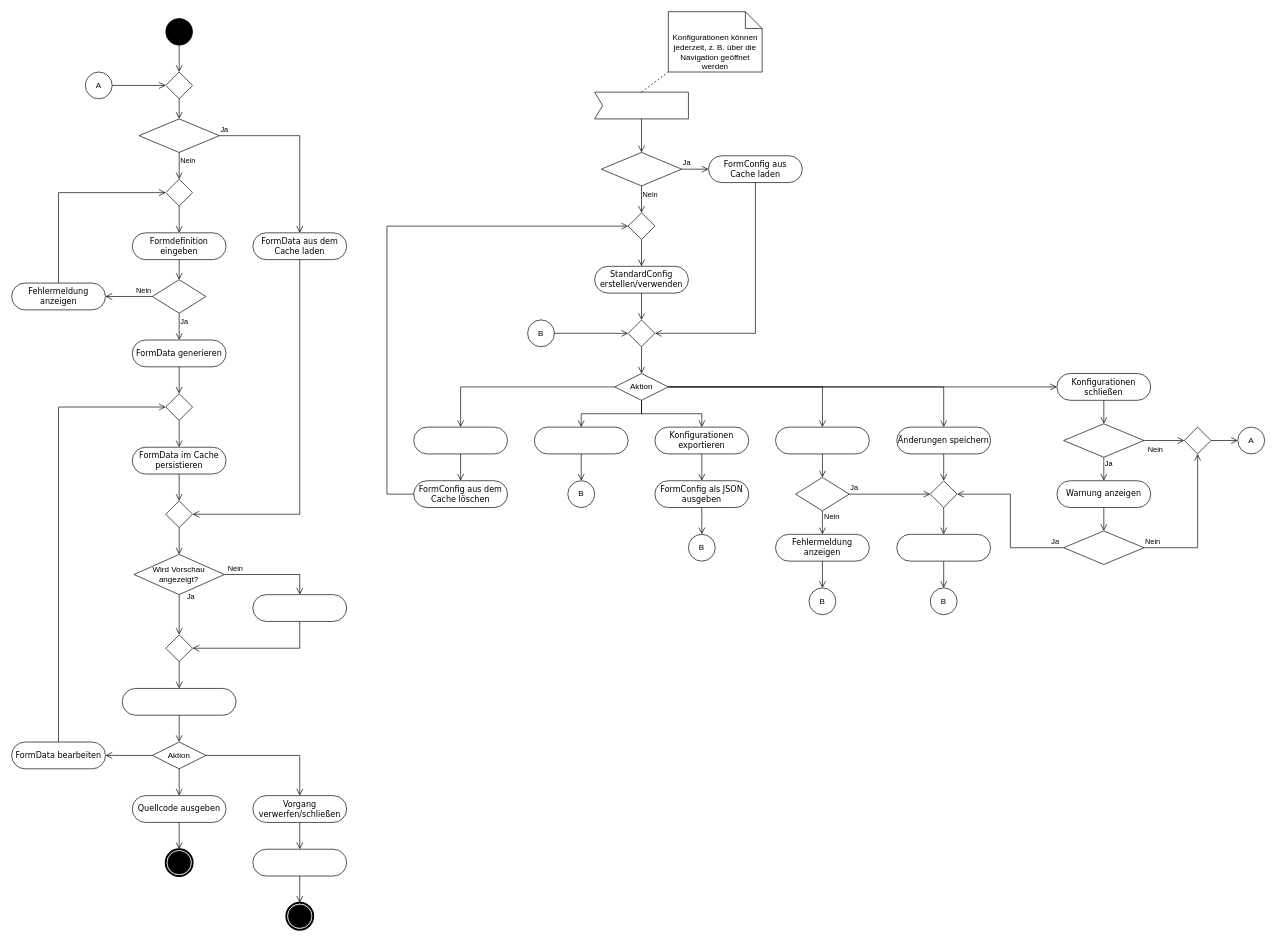
The diagram is 1277 pixels wide and 941 high, and some of its shapes have lost their labels. Here are the shapes that lost their labels. From the top down, the box of each, then its label:
(594, 91, 688, 119): Zu Konfigurationen navigieren
(138, 118, 219, 152): FormData im Cache?
(601, 152, 682, 186): FormConfig im Cache?
(152, 279, 206, 313): Eingabe valide?
(413, 426, 508, 454): Konfigurationen zurücksetzen
(534, 426, 628, 454): Konfigurationen bearbeiten
(775, 426, 869, 454): Konfigurationen importieren
(1063, 423, 1144, 457): Nicht gespeicherte Änderungen?
(795, 477, 849, 511): Input valide?
(896, 534, 991, 561): FormConfig im Cache persistieren
(1063, 530, 1144, 564): Änderungen speichern?
(252, 594, 347, 621): Zur Vorschau navigieren
(122, 688, 236, 715): Angular Material Form generieren und anzeigen
(252, 849, 347, 876): FormData aus Cache löschen
